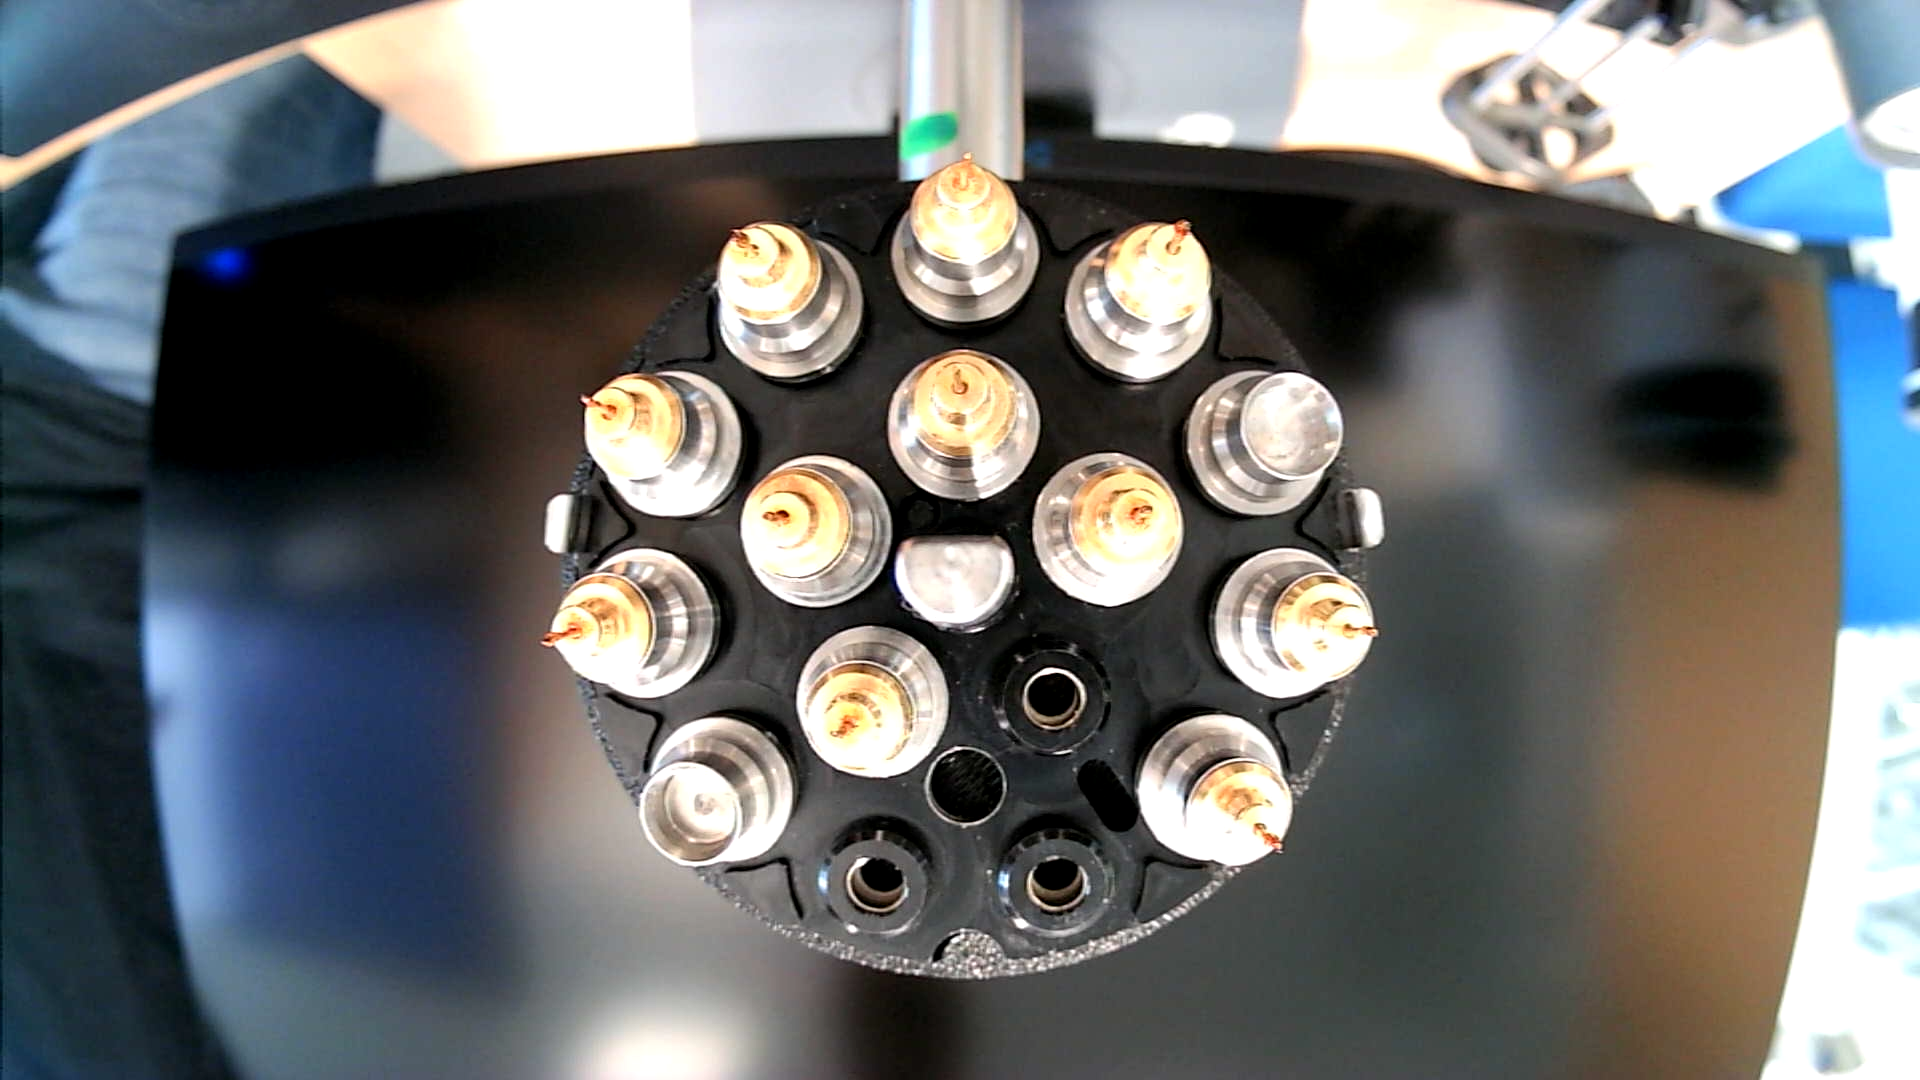adapter: (1180, 363, 1342, 520), (638, 715, 796, 874)
empty: (814, 812, 952, 944), (990, 815, 1124, 940), (990, 640, 1117, 760)
hole: (920, 744, 1011, 832)
pin: (541, 547, 725, 702), (1207, 545, 1379, 702), (887, 152, 1040, 327), (578, 367, 746, 524), (711, 219, 866, 389), (1063, 214, 1215, 385), (1135, 708, 1296, 866), (884, 345, 1044, 502), (793, 625, 952, 782), (737, 451, 891, 611), (1030, 448, 1184, 607)
rod: (891, 530, 1019, 640)
